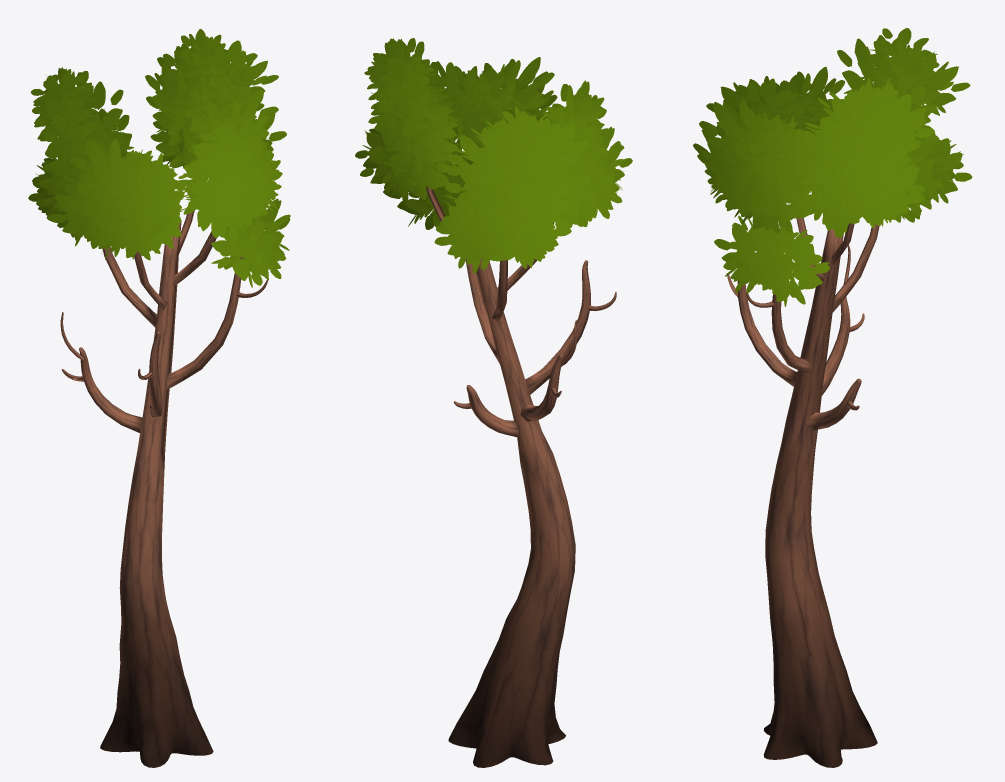
The model's file is CommonTree_4.glb.
The picture shows the model from 3 angles, left to right: view 1: azimuth 30°, elevation 25°; view 2: azimuth 150°, elevation 25°; view 3: azimuth 270°, elevation 25°; orthographic projection. The views are drawn at different scales.
Visible parts, largest first — view 1: CommonTree_4; view 2: CommonTree_4; view 3: CommonTree_4.
Part boxes in pixels (x1,y1,x2,y2): CommonTree_4: (28, 29, 290, 767); CommonTree_4: (355, 38, 632, 767); CommonTree_4: (693, 28, 972, 767).
Bounding box in the file's own units: 3.83 × 9.44 × 3.76.
Materials: 2 (2 with a texture image).
